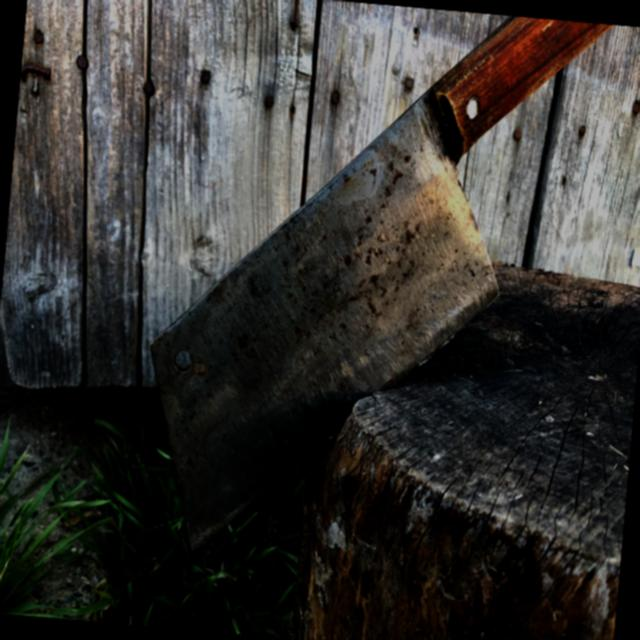cleaver: (134, 0, 507, 569)
